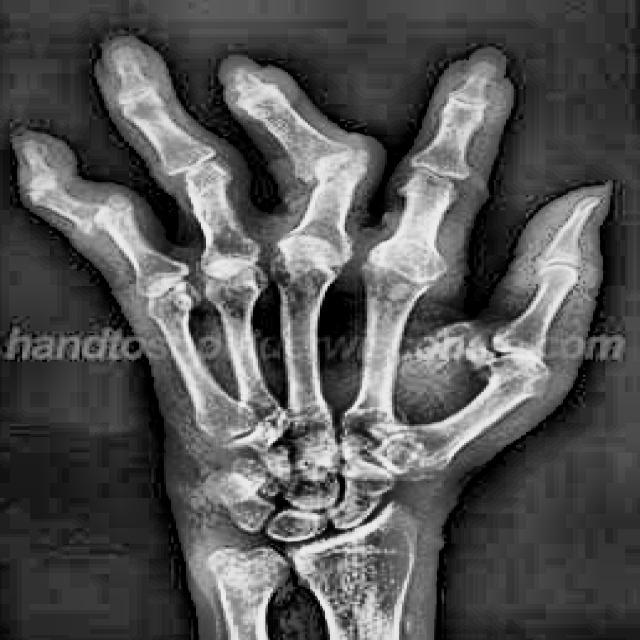fracture: (456, 339, 538, 390), (308, 146, 372, 195), (82, 196, 132, 237), (188, 170, 238, 197)
